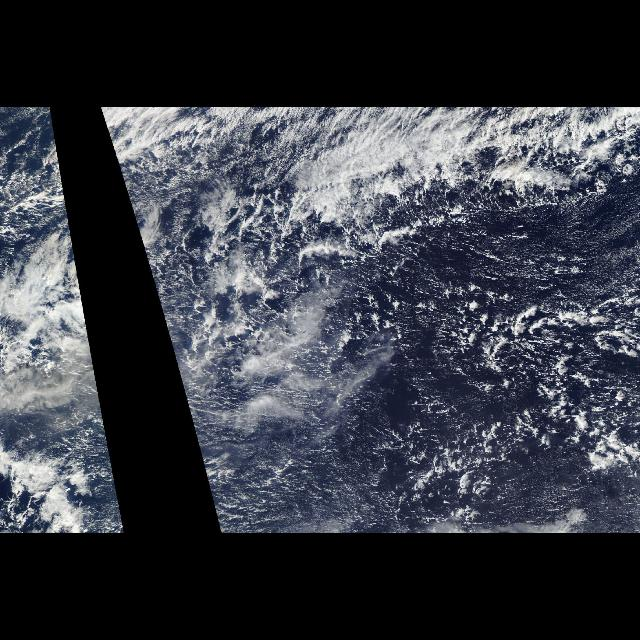Gravel: (148, 187, 640, 533)
Sugar: (175, 275, 639, 533), (412, 194, 636, 312)
